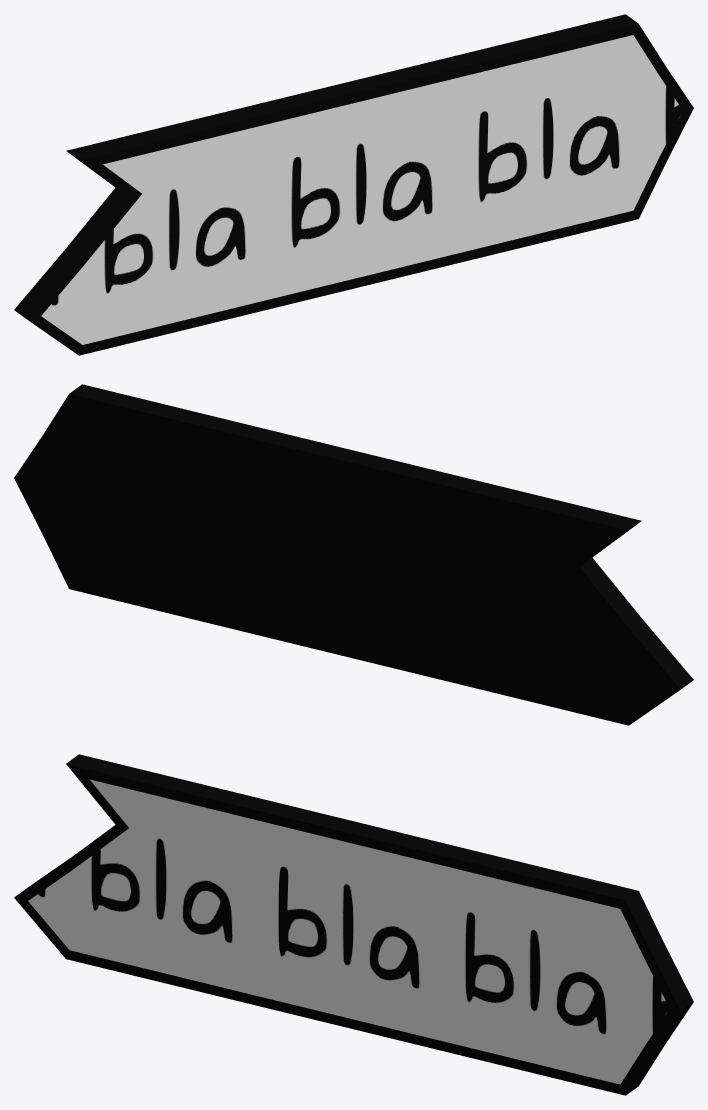
Rendered from mdl_poland_poempieces_4.gltf.
The picture shows the model from 3 angles, top to bottom: view 1: azimuth 30°, elevation 25°; view 2: azimuth 150°, elevation 25°; view 3: azimuth 330°, elevation 25°; orthographic projection.
Visible parts, largest first — view 1: Plane.006; view 2: Plane.006; view 3: Plane.006.
Part boxes in pixels (x1=…): Plane.006: x1=14, y1=14, x2=693, y2=355; Plane.006: x1=14, y1=384, x2=693, y2=725; Plane.006: x1=14, y1=754, x2=693, y2=1095.
Bounding box in the file's own units: 0.8935 × 0.25 × 0.0304.
2 materials, 2 textured.
